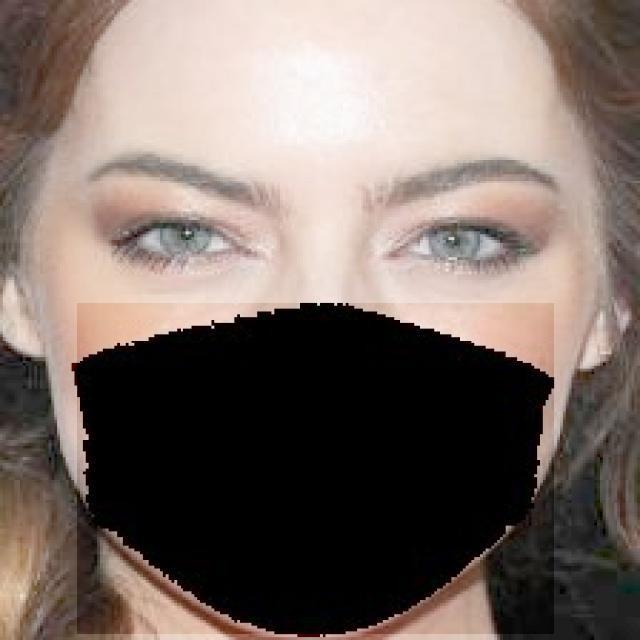mask: (77, 303, 554, 634)
